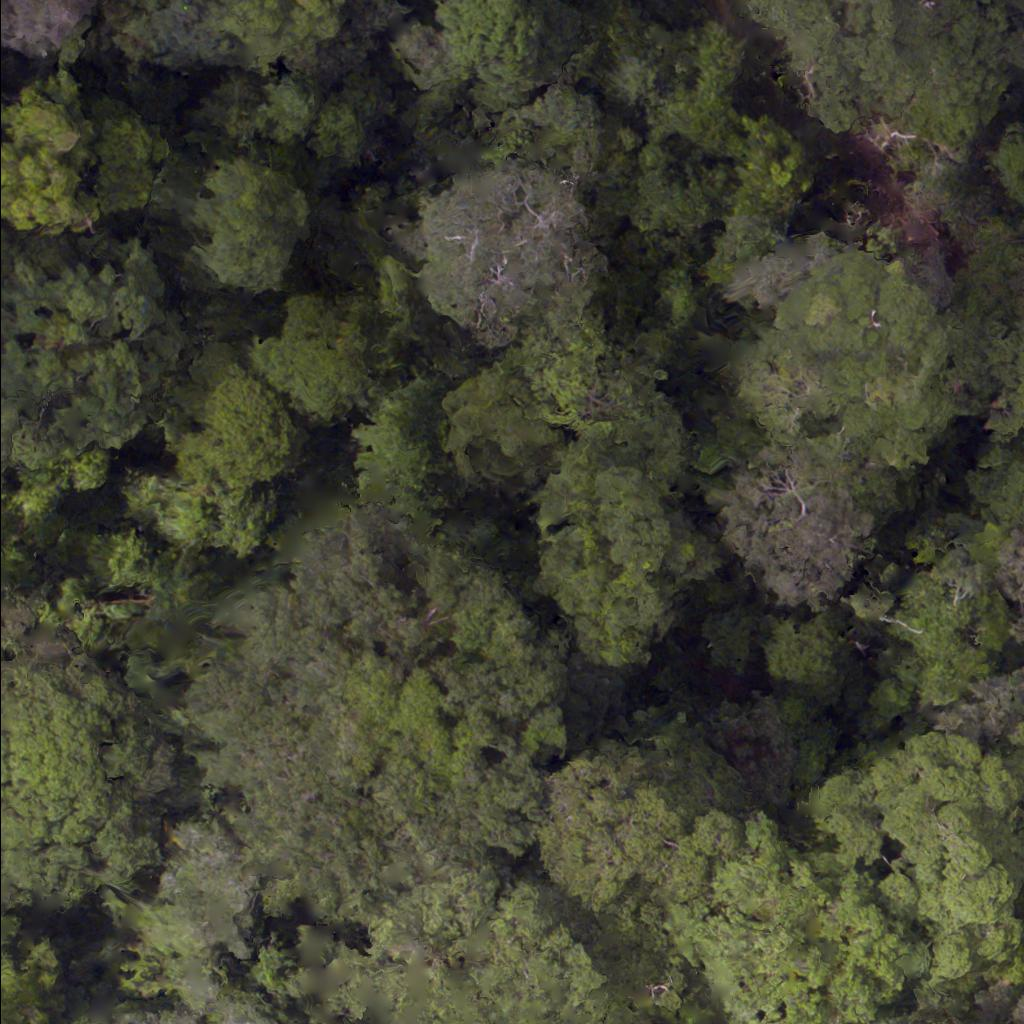crown: (750, 0, 1001, 129), (409, 174, 593, 335), (0, 78, 129, 229), (100, 0, 347, 66), (403, 0, 543, 92), (204, 162, 302, 283), (948, 674, 1023, 740), (1000, 533, 1023, 601), (1014, 616, 1023, 643)
